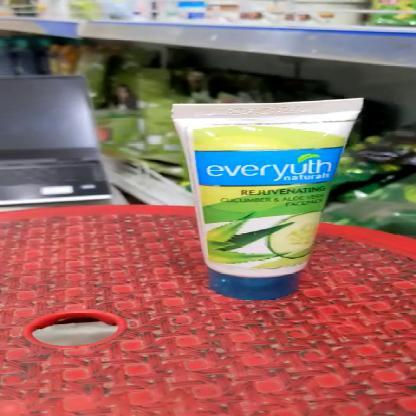EY RJ CUCUMBER ALOEVERA FACEPAK50G: (180, 94, 364, 300)
